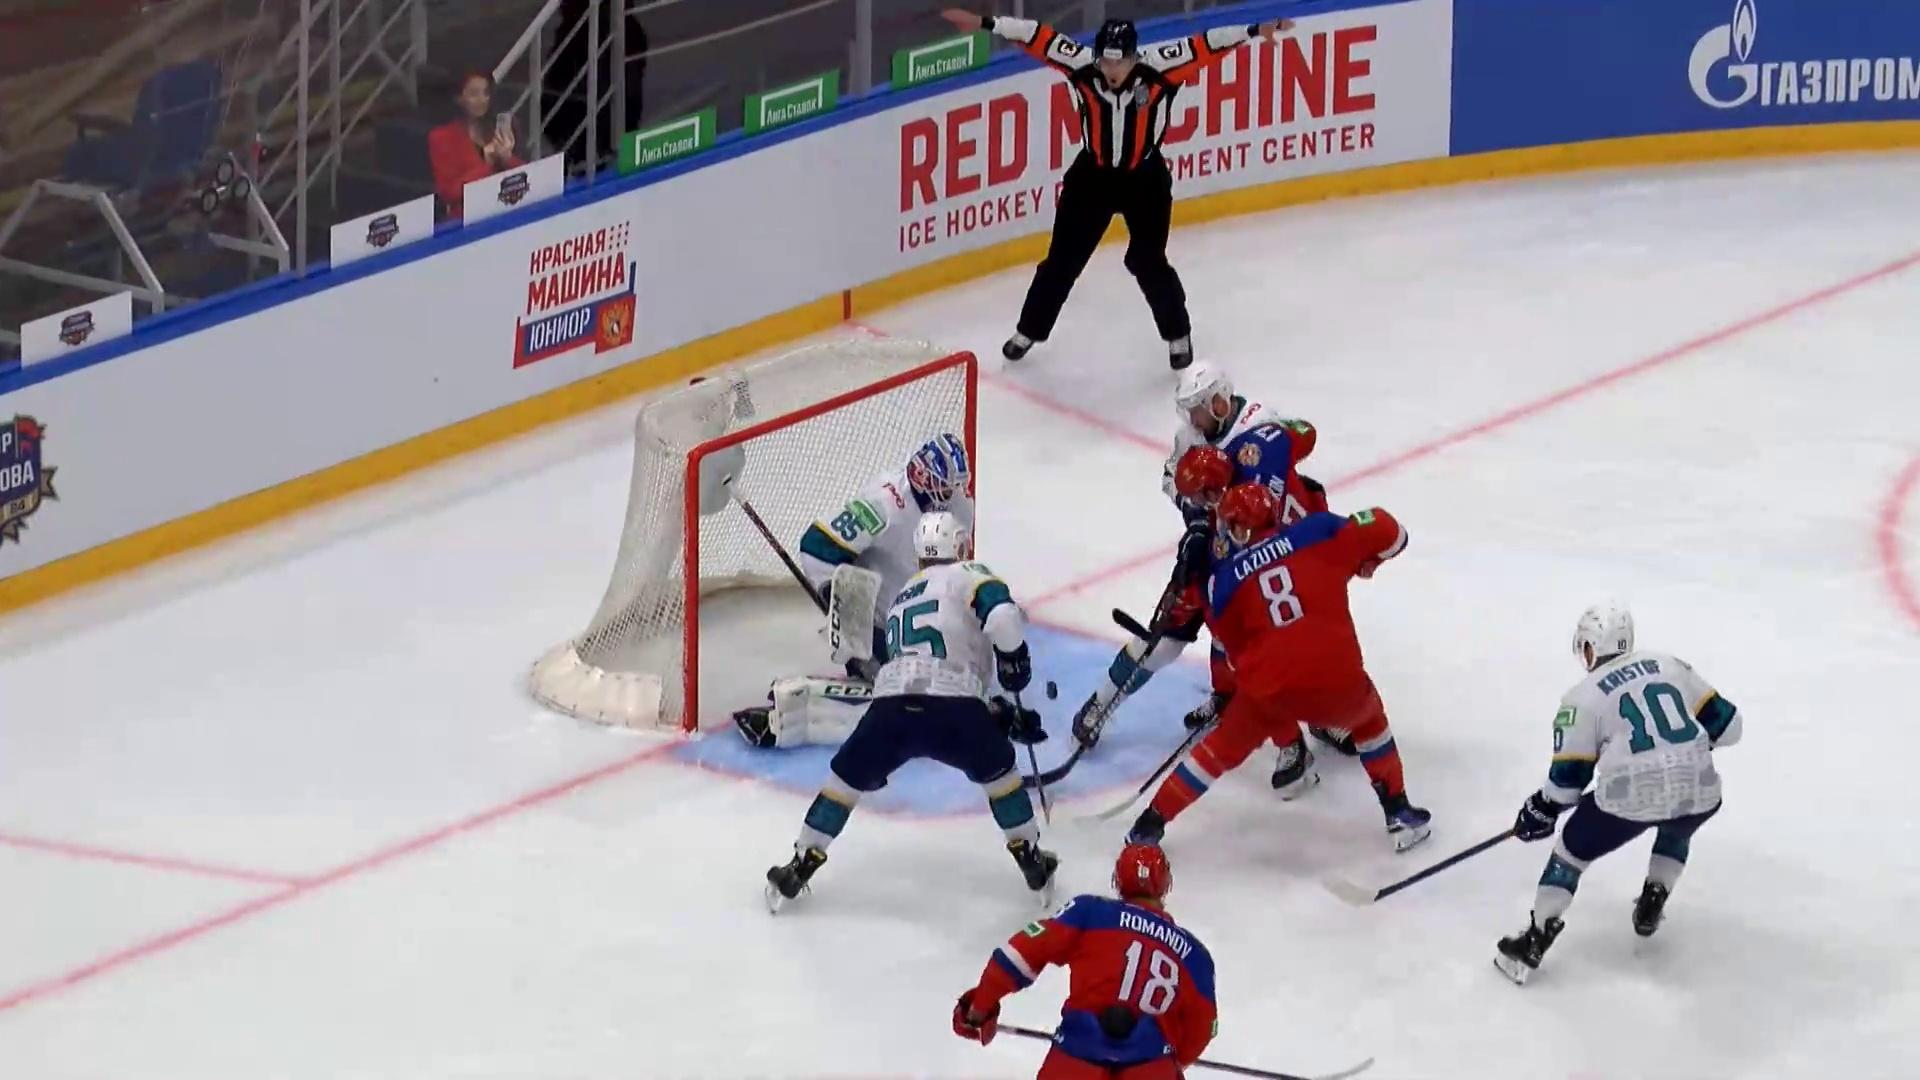ball: (1047, 680, 1058, 699)
